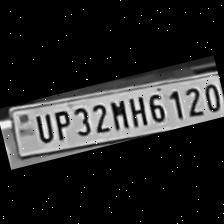0: (198, 78, 222, 114)
1: (162, 86, 186, 122)
2: (176, 82, 204, 118), (86, 99, 110, 134)
3: (67, 101, 92, 137)
6: (141, 88, 169, 125)
H: (124, 92, 148, 128)
M: (104, 95, 130, 132)
P: (47, 106, 74, 142)
U: (29, 110, 54, 144)
